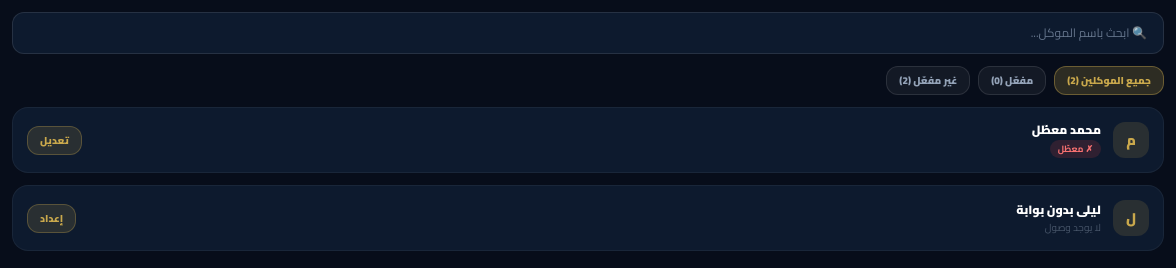
Test case: PortalSection — تابات الحالة (الكل / مفعّل / غير مفعّل) › التابات بتشتغل فوق نتيجة البحث (filteredClients) مش بتستبدلها
Click the button with test id "admin-portal-tab-active". click: (1012, 80)
box: [978,66,1046,95]
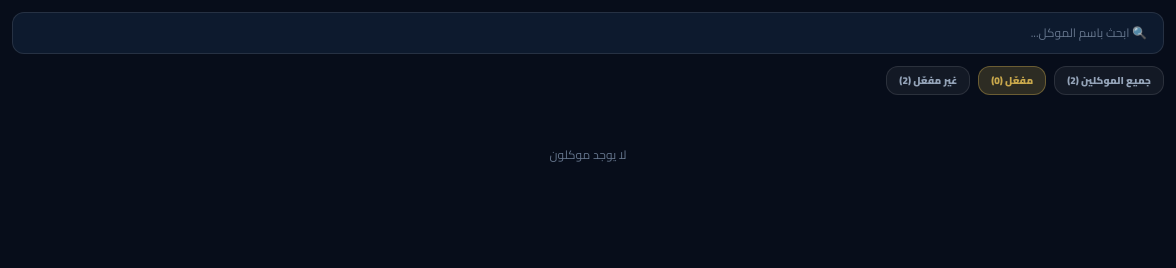
Check: the text "لا يوجد موكلون" is shown, box [550,143,626,166]
